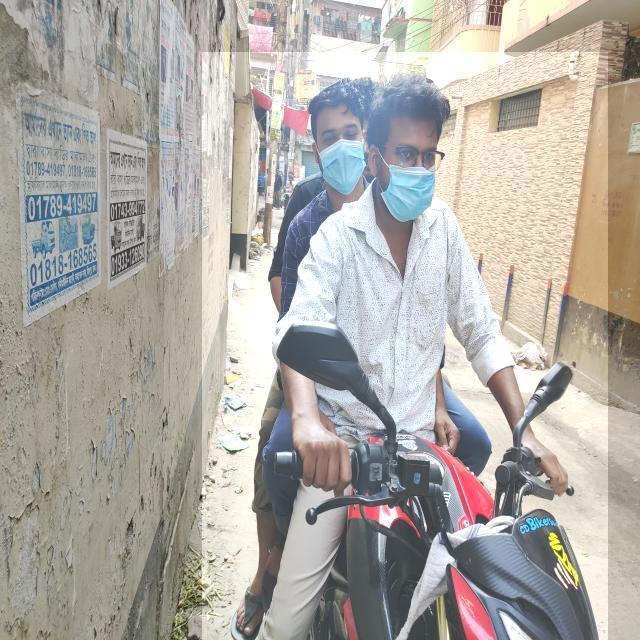Overloading: (202, 52, 608, 640)
